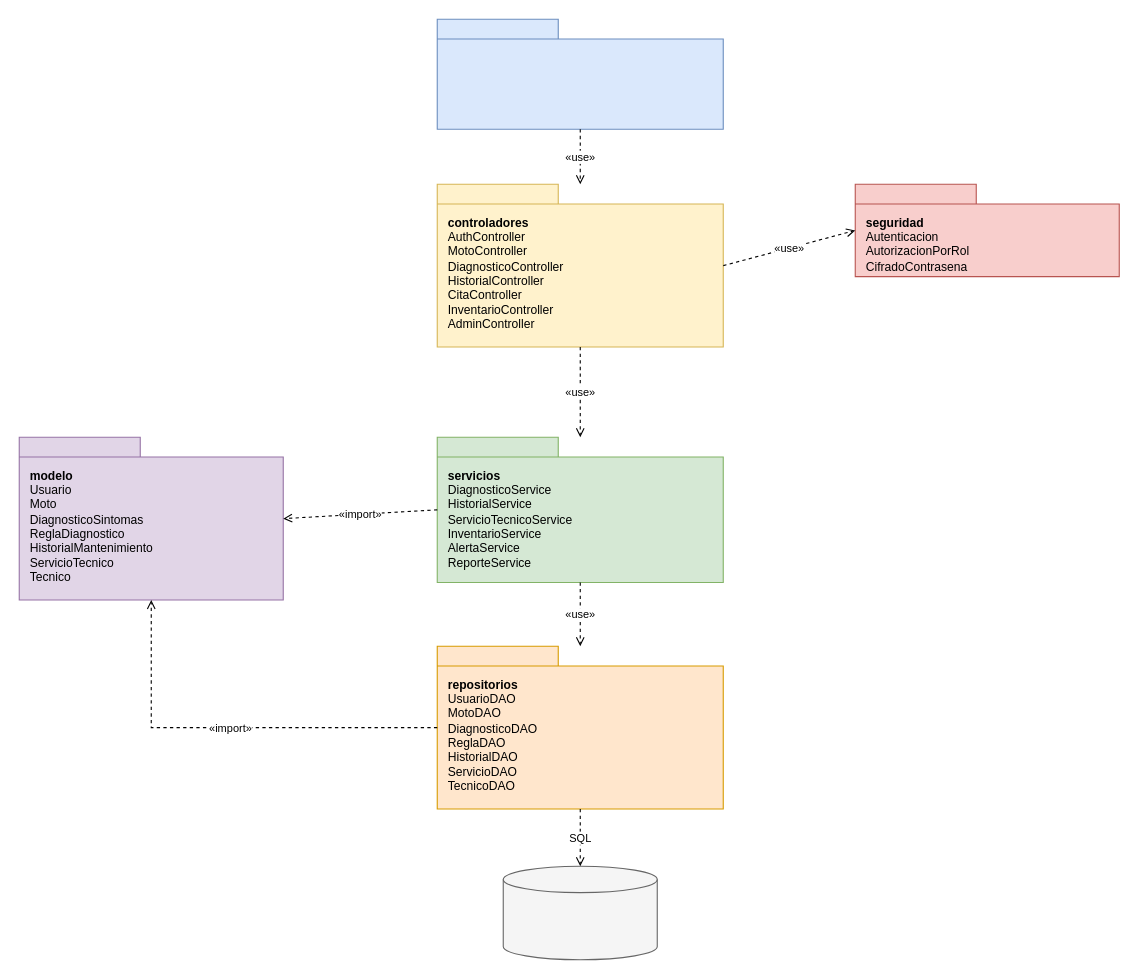
The diagram is 1139 pixels wide and 979 high, and some of its shapes have lost their labels. The shapes that lost their labels are listed below. From the top down, each one's centre as x and y in pixels, then its label:
At [579,73]: "presentacion SitioInformativo WebAppUsuario VistaMecanico PanelAdmin".
At [579,912]: "MySQL BD Motostar".
